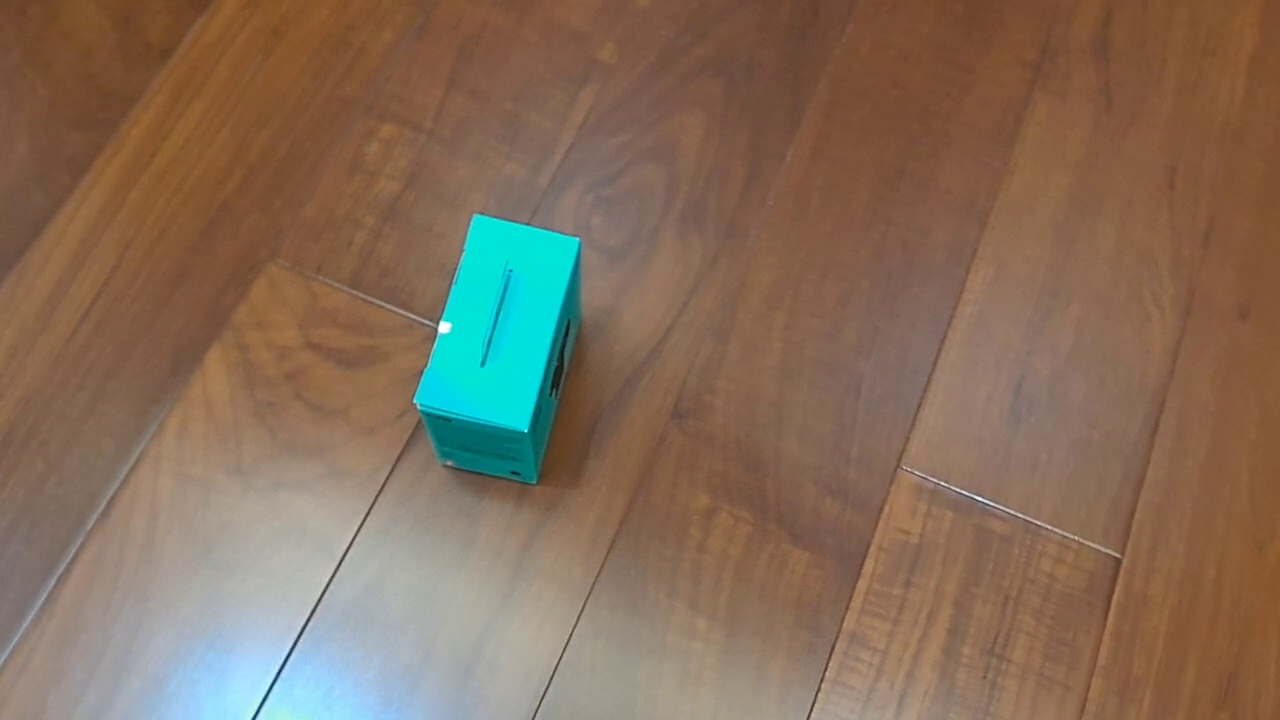webcam: (412, 212, 582, 485)
